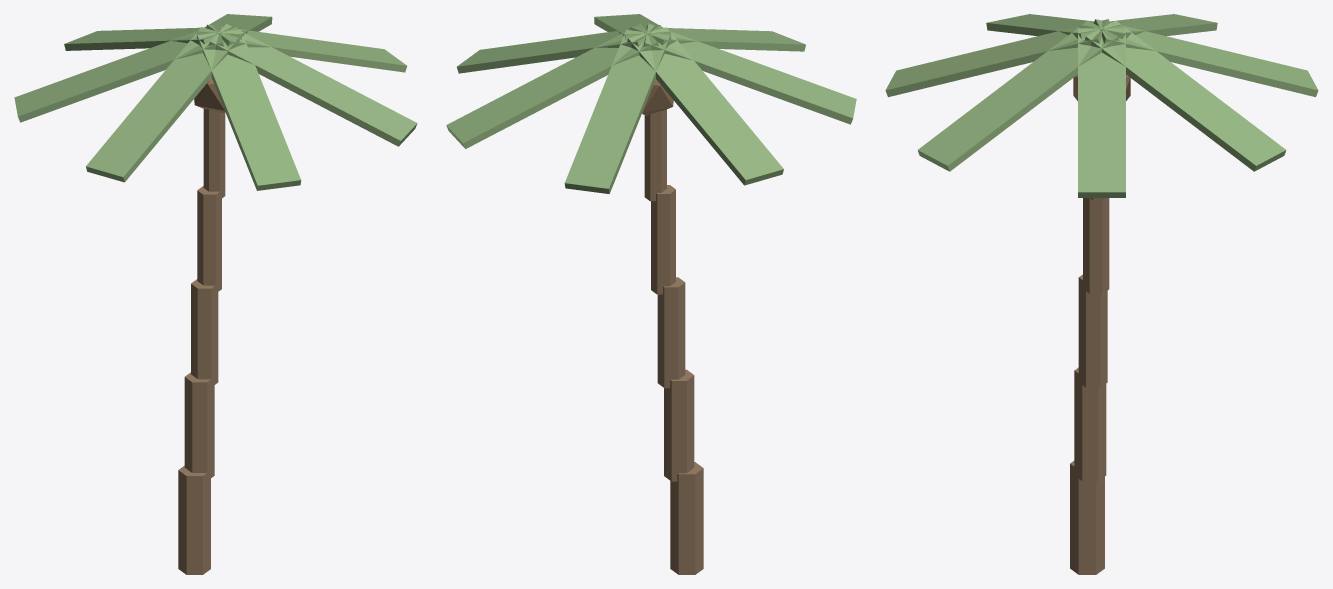
File: Agac_Palmiye.glb
3 renders of one model, left to right at view 1: azimuth 30°, elevation 25°; view 2: azimuth 150°, elevation 25°; view 3: azimuth 270°, elevation 25°, orthographic. The views are drawn at different scales.
Parts seen in each view (by area): view 1: Agac_Palmiye; view 2: Agac_Palmiye; view 3: Agac_Palmiye.
Part boxes in pixels (<box>): Agac_Palmiye: <box>14,14,417,574</box>; Agac_Palmiye: <box>446,14,856,574</box>; Agac_Palmiye: <box>885,14,1318,574</box>.
Bounding box in the file's own units: 4.37 × 6.35 × 4.48.
